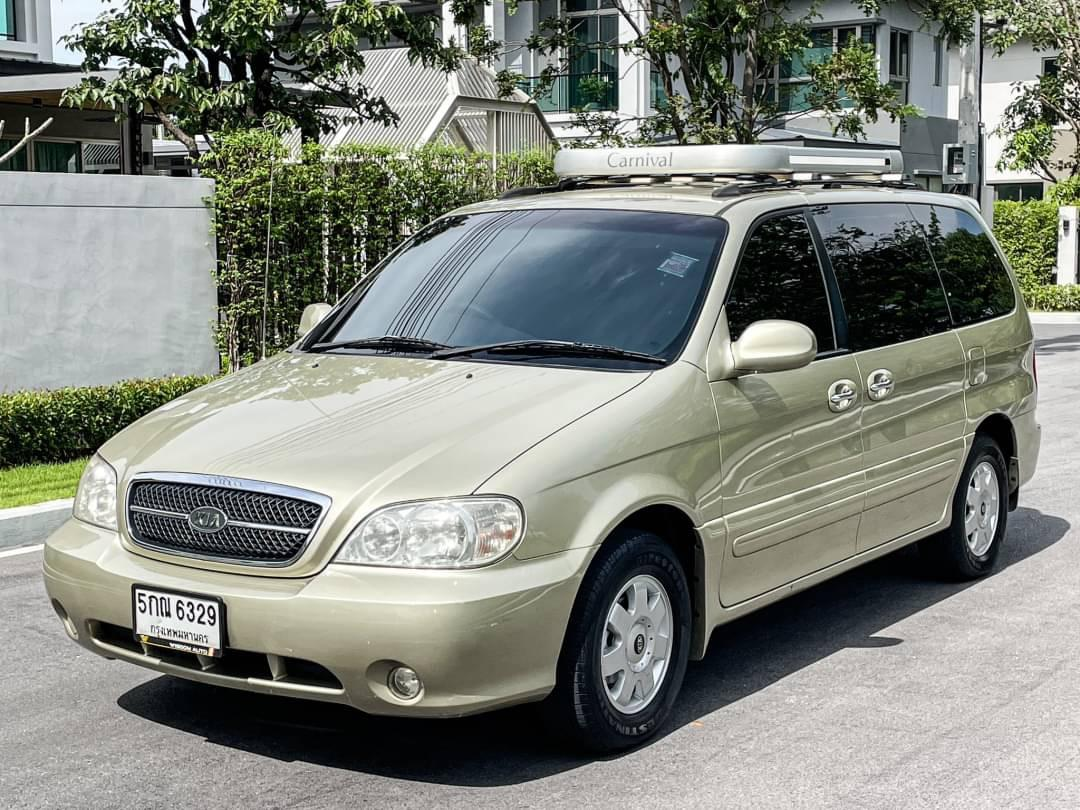license-plate: (120, 580, 240, 678)
